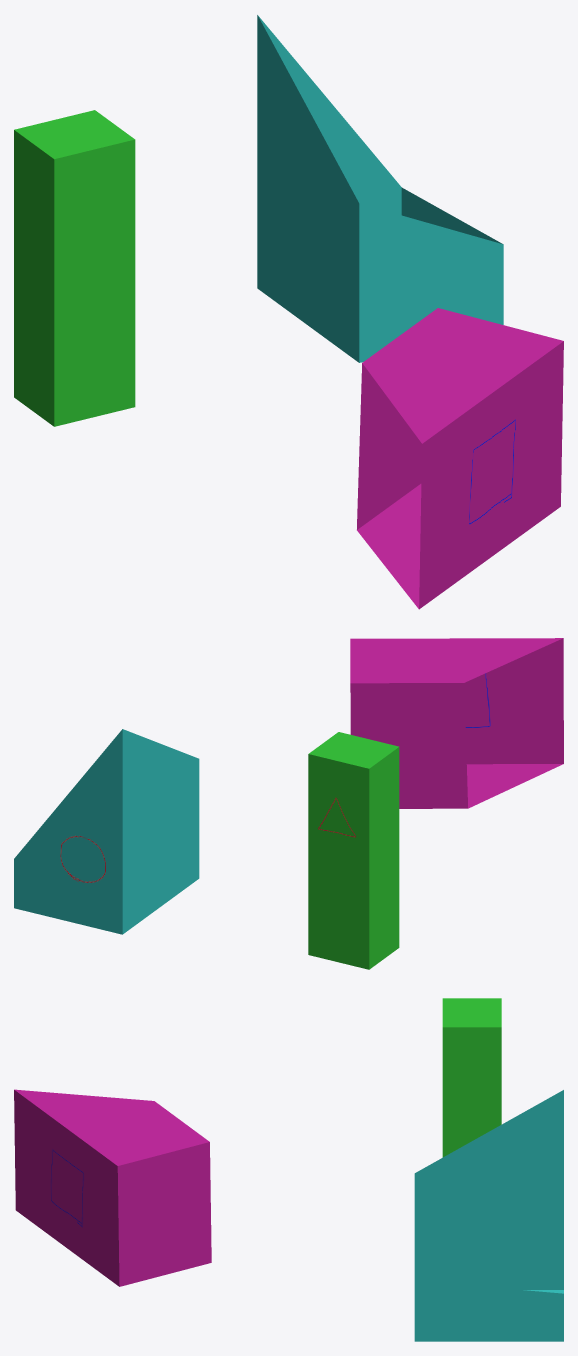
3 renders of one model, top to bottom at view 1: azimuth 30°, elevation 25°; view 2: azimuth 150°, elevation 25°; view 3: azimuth 270°, elevation 25°, orthographic. The views are drawn at different scales.
Visible parts, largest first — view 1: Cube.001, Cube.004, Cube.002; view 2: Cube.001, Cube.004, Cube.002; view 3: Cube.004, Cube.001, Cube.002.
Part boxes in pixels (bbox=[...]): Cube.001: bbox=[357, 308, 563, 609]; Cube.004: bbox=[257, 15, 503, 362]; Cube.002: bbox=[14, 110, 135, 426]; Cube.001: bbox=[350, 638, 563, 808]; Cube.004: bbox=[14, 729, 199, 934]; Cube.002: bbox=[308, 732, 399, 969]; Cube.004: bbox=[414, 1090, 563, 1341]; Cube.001: bbox=[14, 1089, 211, 1286]; Cube.002: bbox=[442, 998, 501, 1157].
Bounding box in the file's own units: 6.07 × 3.8 × 9.19.
Materials: 3 (3 with a texture image).
